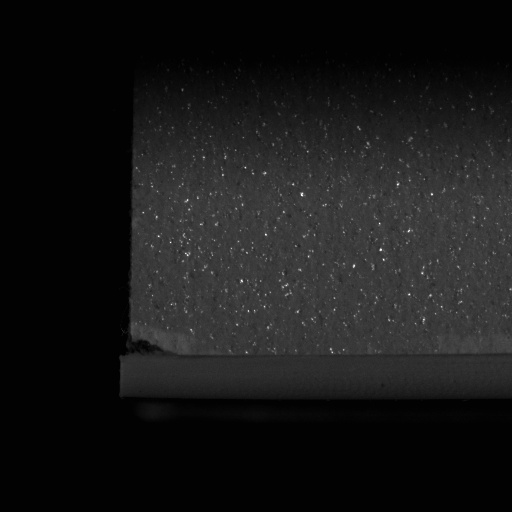bengque: (118, 325, 195, 361)
